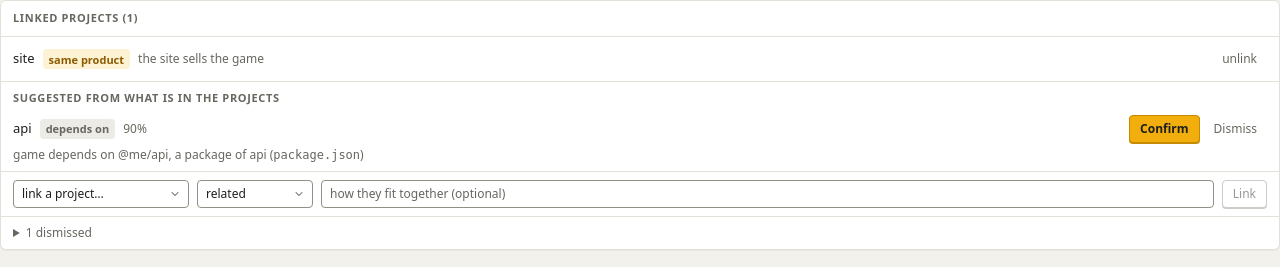
Test case: confirming a suggestion sends your decision and moves it to the linked list
Click the button with aria-label "confirm link to api".
click(1164, 128)  # box 1129,114 -> 1200,142
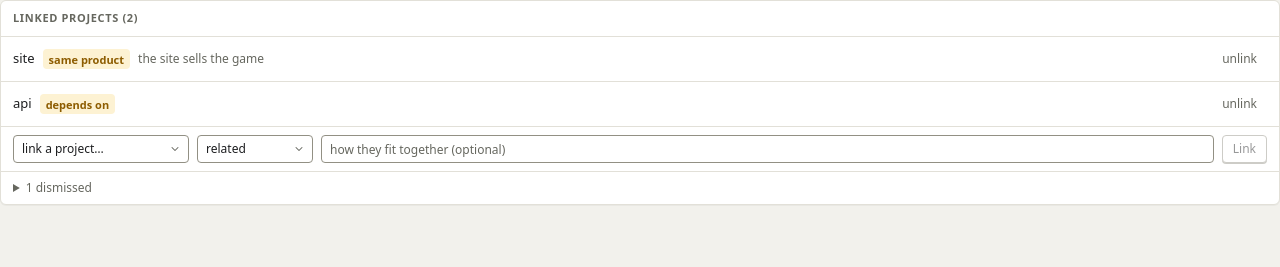
Expected: the button with aria-label "unlink api" is shown, 1212,90 -> 1267,118
